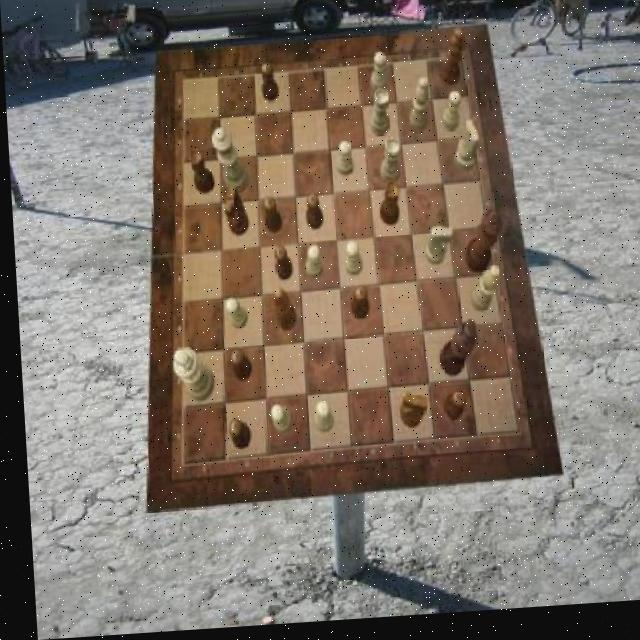bishop: (438, 35, 465, 93), (270, 289, 293, 335)
black-bishop: (433, 326, 475, 384)
black-king: (220, 189, 246, 239), (393, 397, 422, 435)
black-knight: (438, 395, 462, 428), (261, 65, 280, 105), (261, 198, 280, 237), (223, 422, 246, 454), (226, 353, 248, 386), (302, 198, 321, 235), (271, 249, 290, 284), (347, 291, 366, 324)
black-pawn: (459, 216, 502, 280)
black-queen: (186, 151, 213, 197), (376, 186, 399, 231)
black-rook: (464, 272, 497, 319), (405, 82, 430, 138)
white-bishop: (167, 349, 211, 405)
white-king: (450, 126, 478, 177), (421, 232, 450, 271)
white-knight: (440, 96, 461, 137), (221, 300, 245, 334), (368, 57, 387, 99), (309, 404, 330, 437), (341, 245, 360, 281), (302, 248, 321, 283), (334, 145, 352, 181), (266, 409, 287, 438)
white-pawn: (210, 129, 248, 197)
white-queen: (377, 143, 401, 189), (367, 94, 390, 141)
